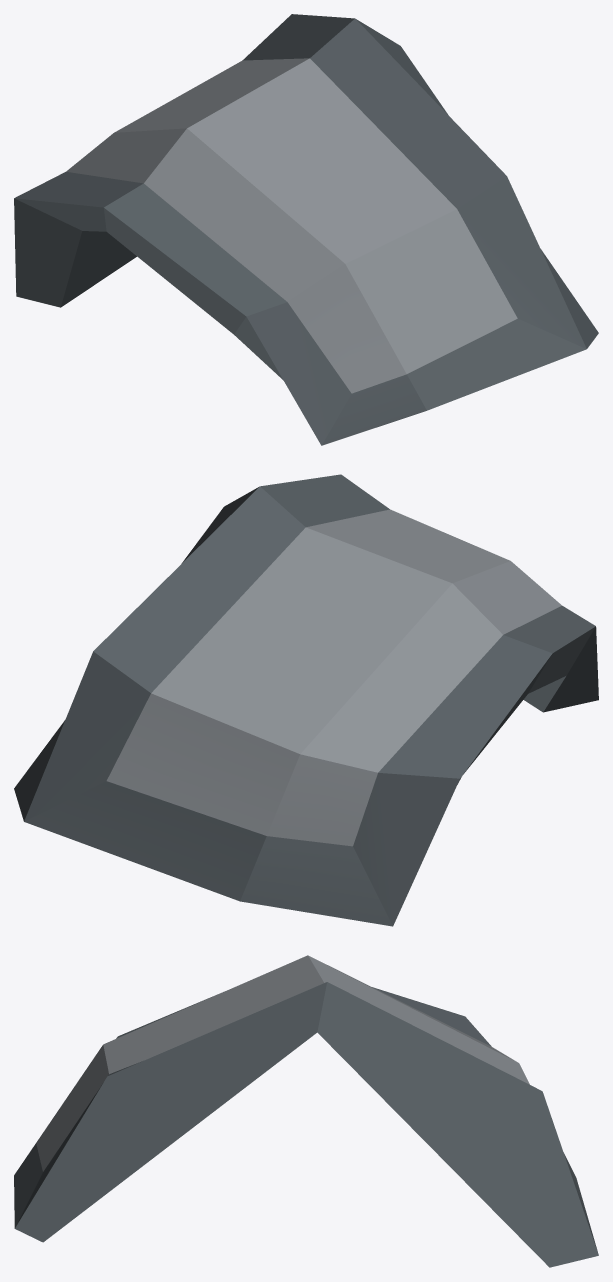
Rendered from Chr_ShoulderAttachRight_02_Static.fbx.
3 renders of one model, top to bottom at view 1: azimuth 30°, elevation 25°; view 2: azimuth 150°, elevation 25°; view 3: azimuth 270°, elevation 25°, orthographic. The views are drawn at different scales.
Parts seen in each view (by area): view 1: Chr_ShoulderAttachRight_02_Static; view 2: Chr_ShoulderAttachRight_02_Static; view 3: Chr_ShoulderAttachRight_02_Static.
Part boxes in pixels (x1,y1,x2,y2): Chr_ShoulderAttachRight_02_Static: (14,14,598,445); Chr_ShoulderAttachRight_02_Static: (14,474,598,926); Chr_ShoulderAttachRight_02_Static: (14,955,598,1267).
Bounding box in the file's own units: 0.2459 × 0.178 × 0.3338.
